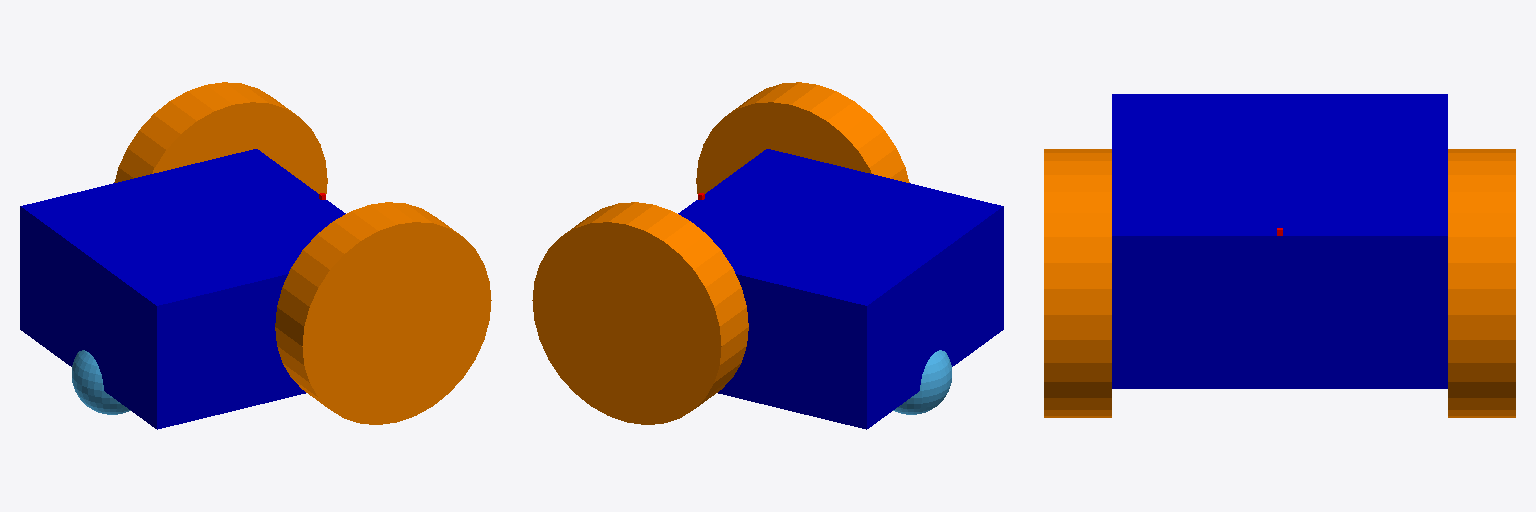
The robot description file, URDF, robot "gopigo3":
<?xml version='1.0'?>
<robot name="gopigo3">

  <material name="blue">
    <color rgba="0 0 0.8 1"/>
  </material>

  <material name="white">
    <color rgba="1 1 1 1"/>
  </material>

  <material name="red">
    <color rgba="1 0 0 1"/>
  </material>

  <material name="green">
    <color rgba="0 1 0 1"/>
  </material>

  <material name="yellow">
    <color rgba="1 1 0 1"/>
  </material>

  <material name="orange">
    <color rgba="1 0.54 0 1"/>
  </material>
  
  <!-- Dummy link without inertia is needed -->
  <link name="base_footprint"/>
  <joint name="base_link_joint" type="fixed">
    <origin rpy="0 0 0" xyz="0 0 0.05"/>
    <parent link="base_footprint"/>
    <child link="base_link"/>
  </joint>
  <!-- Base Link -->
  <link name="base_link">
    <visual>
      <origin xyz="0 0 0" rpy="0 0 0" />
      <geometry>
          <box size="0.5 0.5 0.25"/>
      </geometry>
      <material name="blue"/>
    </visual>

    <!-- Base collision, mass and inertia -->
    <collision>
      <origin xyz="0 0 0" rpy="0 0 0" />
      <geometry>
          <box size="0.5 0.5 0.25"/>
      </geometry>
    </collision>

    <inertial>
      <origin xyz="0 0 0" rpy="0 0 0" />
      <mass value="5"/>
      <inertia ixx="0.13" ixy="0.0" ixz="0.0" iyy="0.21" iyz="0.0" izz="0.13"/>
    </inertial>

    <!-- Caster attachment -->
    <visual name="caster_visual">
      <origin xyz="-0.2 0 -0.125" rpy="0 0 0" />
      <geometry>
        <sphere radius="0.075" />
      </geometry>
    </visual>

    <collision name="caster_collision">
      <origin xyz="-0.2 0 -0.125" rpy="0 0 0" />
      <geometry>
        <sphere radius="0.075" />
      </geometry>
    </collision>

    <inertial name="caster_inertia">
      <origin xyz="-0.2 0 -0.125" rpy="0 0 0" />
      <mass value="0.5"/>
      <inertia ixx="0.0001" ixy="0.0" ixz="0.0" iyy="0.0001" iyz="0.0" izz="0.0001"/>
    </inertial>

  </link>
 
  <!-- Right Wheel -->
  <link name="right_wheel">
    <visual>
      <origin xyz="0 0 0" rpy="1.570795 0 0" />
      <geometry>
          <cylinder length="0.1" radius="0.2" />
      </geometry>
      <material name="orange"/>
    </visual>
    <!-- Right Wheel collision, mass and inertia -->
    <collision>
      <origin xyz="0 0 0" rpy="1.570795 0 0" />
      <geometry>
          <cylinder length="0.1" radius="0.2" />
      </geometry>
    </collision>
    <inertial>
      <origin xyz="0 0 0" rpy="1.570795 0 0" />
      <mass value="0.5"/>
      <inertia ixx="0.01" ixy="0.0" ixz="0.0" iyy="0.005" iyz="0.0" izz="0.005"/>
    </inertial>

  </link>

  <!-- Right Wheel joint -->
  <joint name="joint_right_wheel" type="continuous">
    <parent link="base_link"/>
    <child link="right_wheel"/>
    <origin xyz="0.2 -0.30 0.025" rpy="0 0 0" /> 
    <axis xyz="0 1 0" />
  </joint>
  <!-- Left Wheel joint -->
  <joint name="joint_left_wheel" type="continuous">
    <parent link="base_link"/>
    <child link="left_wheel"/>
    <origin xyz="0.2 0.30 0.025" rpy="0 0 0" /> 
    <axis xyz="0 1 0"/>
  </joint>

  <!-- Left Wheel -->
  <link name="left_wheel">
    <visual>
      <origin xyz="0 0 0" rpy="1.570795 0 0" />
      <geometry>
          <cylinder length="0.1" radius="0.2" />
      </geometry>
      <material name="orange"/>
    </visual>
    <!-- Left Wheel collision, mass and inertia -->
    <collision>
      <origin xyz="0 0 0" rpy="1.570795 0 0" />
      <geometry>
          <cylinder length="0.1" radius="0.2" />
      </geometry>
    </collision>
    <inertial>
      <origin xyz="0 0 0" rpy="1.570795 0 0" />
      <mass value="0.5"/>
      <inertia ixx="0.01" ixy="0.0" ixz="0.0" iyy="0.005" iyz="0.0" izz="0.005"/>
    </inertial>

  </link>

<!-- Distance Sensor -->
  <joint name="distance_sensor_joint" type="fixed">
    <axis xyz="0 1 0" />
    <origin rpy="0 0 0" xyz="0.245 0 0.13" />
    <parent link="base_link"/>
    <child link="distance_sensor"/>
  </joint>

  <link name="distance_sensor">
    <visual>
      <origin xyz="0 0 0" rpy="0 0 0"/>
      <geometry>
        <box size="0.01 0.01 0.01"/>
      </geometry>
      <material name="red"/>
    </visual>
  </link>
  
  <!-- Distance Sensor solid-->
  <joint name="distance_sensor_solid_joint" type="fixed">
    <axis xyz="0 1 0" />
    <origin rpy="0 0 0" xyz="0 0 0" />
    <parent link="base_link"/>
    <child link="distance_sensor_solid"/>
  </joint>

  <link name="distance_sensor_solid">
    <collision>
      <origin xyz="0.2 0 0.155" rpy="1.570795 0 1.570795" />
      <geometry>
        <box size="0.01 0.01 0.01"/>
      </geometry>
    </collision>

    <visual>
      <origin xyz="0.2 0 0.155" rpy="1.570795 0 1.570795" />
      <geometry>
        <mesh filename="package://gopigo3_description/meshes/IR_Sensor_Sharp_GP2Y_solid.stl" scale="0.005 0.005 0.005"/>
      </geometry>
      <material name="red"/>
    </visual>

    <inertial>
      <origin xyz="0.2 0 0.155" rpy="1.570795 0 1.570795" />
      <mass value="1e-5" />
      <origin xyz="0 0 0" rpy="0 0 0"/>
      <inertia ixx="1e-6" ixy="0" ixz="0" iyy="1e-6" iyz="0" izz="1e-6" />
    </inertial>
  </link>

  <!-- 2D Camera as a mesh of actual PiCamera -->
  <link name="camera">
    <visual>
      <origin xyz="0.25 0 0.05" rpy="0 1.570795 0" />
      <geometry>
        <mesh filename="package://gopigo3_description/meshes/piCamera.stl" scale="0.005 0.005 0.005"/>
      </geometry>
      <material name="yellow"/>
    </visual>
    
    <collision>
      <origin xyz="0.275 0 0.05" rpy="0 -1.570795 0" />
      <geometry>
        <box size="0.15 0.15 0.05"/>
      </geometry>
    </collision>

    <inertial>
      <origin xyz="0.275 0 0.05" rpy="0 -1.570795 0" />
      <mass value="1e-3" />
      <inertia ixx="1e-6" ixy="0" ixz="0" iyy="1e-6" iyz="0" izz="1e-6" />
    </inertial>
  </link>

  <joint name="joint_camera" type="fixed">
    <axis xyz="0 0 1" />
    <origin xyz="0 0 0" rpy="0 0 0"/>
    <parent link="base_link"/>
    <child link="camera"/>
  </joint>

  <!-- GAZEBO MATERIAL TAGS (colors for sensors under <sensor> tags) -->
  <gazebo reference="base_link">
    <material>Gazebo/Blue</material>
    <pose>0 0 3 0 0 0</pose>
  </gazebo>

  <gazebo reference="right_wheel">
    <material>Gazebo/White</material>
  </gazebo>

  <gazebo reference="left_wheel">
    <material>Gazebo/White</material>
  </gazebo>

  <!-- SENSOR AND ACTUATORS (only Gazebo, not part of URDF) -->
  <!-- Differential Drive Controller -->
  <!-- https://answers.ros.org/question/236122/diffdrive-odometry-source-is-missing -->
  <gazebo>
    <plugin filename="libgazebo_ros_diff_drive.so" name="differential_drive_controller">
      <alwaysOn>true</alwaysOn>
      <updateRate>20</updateRate>
      <leftJoint>joint_left_wheel</leftJoint>
      <rightJoint>joint_right_wheel</rightJoint>
      <wheelSeparation>0.6</wheelSeparation>
      <wheelDiameter>0.3</wheelDiameter>
      <torque>0.1</torque>
      <commandTopic>cmd_vel</commandTopic>
      <odometryTopic>odom</odometryTopic>
      <odometryFrame>odom</odometryFrame>
      <robotBaseFrame>base_link</robotBaseFrame>
      <legacyMode>false</legacyMode>
      <publishTf>1</publishTf>
      <rosDebugLevel>na</rosDebugLevel>
      <publishWheelTF>false</publishWheelTF>
      <publishOdomTF>true</publishOdomTF>
      <publishWheelJointState>false</publishWheelJointState>
      <wheelAcceleration>0</wheelAcceleration>
      <wheelTorque>5</wheelTorque>
    </plugin>
  </gazebo>

<!-- Distance Sensor controller -->
<gazebo reference="distance_sensor">        
   <sensor type="ray" name="laser_distance">
      <material>Gazebo/White</material>
      <pose>0 0 0 0 0 0</pose>
      <visualize>true</visualize>
      <update_rate>10</update_rate>
      <ray>
         <scan>
            <horizontal>
               <samples>10</samples>
               <resolution>1</resolution> 
               <min_angle>-0.01</min_angle>
               <max_angle>0.01</max_angle>
            </horizontal>
            <vertical>
               <samples>10</samples>
               <resolution>1</resolution> 
               <min_angle>-0.01</min_angle>
               <max_angle>0.01</max_angle> 
            </vertical>
         </scan>
         <range>
            <min>0.01</min>
            <max>3</max>
            <resolution>0.01</resolution>
         </range>
      </ray>
      <plugin filename="libgazebo_ros_range.so" name="gazebo_ros_ir">
         <gaussianNoise>0.005</gaussianNoise>
         <alwaysOn>true</alwaysOn>
         <updateRate>0.0</updateRate>
         <topicName>gopigo/distance</topicName>
         <frameName>distance_sensor</frameName>
         <radiation>INFRARED</radiation>
         <fov>0.02</fov>
      </plugin>
    </sensor>  
   </gazebo>

<!-- 2D Camera controller -->
<gazebo reference="camera">
    <sensor type="camera" name="camera1">
      <update_rate>30.0</update_rate>
      <camera name="front">
        <horizontal_fov>1.3962634</horizontal_fov>
        <image>
          <width>800</width>
          <height>800</height>
          <format>R8G8B8</format>
        </image>
        <clip>
          <near>0.02</near>
          <far>300</far>
        </clip>
      </camera>
      <plugin name="camera_controller" filename="libgazebo_ros_camera.so">
        <alwaysOn>true</alwaysOn>
        <updateRate>0.0</updateRate>
        <cameraName>gopigo/camera1</cameraName>
        <imageTopicName>image_raw</imageTopicName>
        <cameraInfoTopicName>camera_info</cameraInfoTopicName>
        <frameName>camera</frameName>
        <hackBaseline>0.07</hackBaseline>
        <distortionK1>0.0</distortionK1>
        <distortionK2>0.0</distortionK2>
        <distortionK3>0.0</distortionK3>
        <distortionT1>0.0</distortionT1>
        <distortionT2>0.0</distortionT2>
      </plugin>
    </sensor>
  </gazebo>

</robot>

--- What the picture shows (computed from the rendered views, not written in the file) ---
Views: 3 orthographic renders of the robot side by side, from view 1: azimuth 30°, elevation 25°; view 2: azimuth 150°, elevation 25°; view 3: azimuth 270°, elevation 25°.
Robot: gopigo3 — 7 links, 6 joints (2 continuous, 4 fixed); root link base_footprint; default pose: every joint at zero.
Links seen in each view (by area): view 1: base_link, right_wheel, left_wheel; view 2: base_link, left_wheel, right_wheel; view 3: base_link, right_wheel, left_wheel.
Boxes of the visible links, x1,y1,x2,y2 form: base_link: (20,149,345,429); right_wheel: (275,202,491,424); left_wheel: (114,82,327,193); base_link: (678,149,1003,429); left_wheel: (532,202,748,424); right_wheel: (696,82,909,193); base_link: (1112,94,1447,388); right_wheel: (1044,149,1111,417); left_wheel: (1448,149,1515,417).
Size in the robot's own frame: 0.675 by 0.7 by 0.425 metres.
0 mesh visuals loaded from 2 distinct referenced files (none loaded); not drawn: 2 (reference not matched to a file when rendering).
